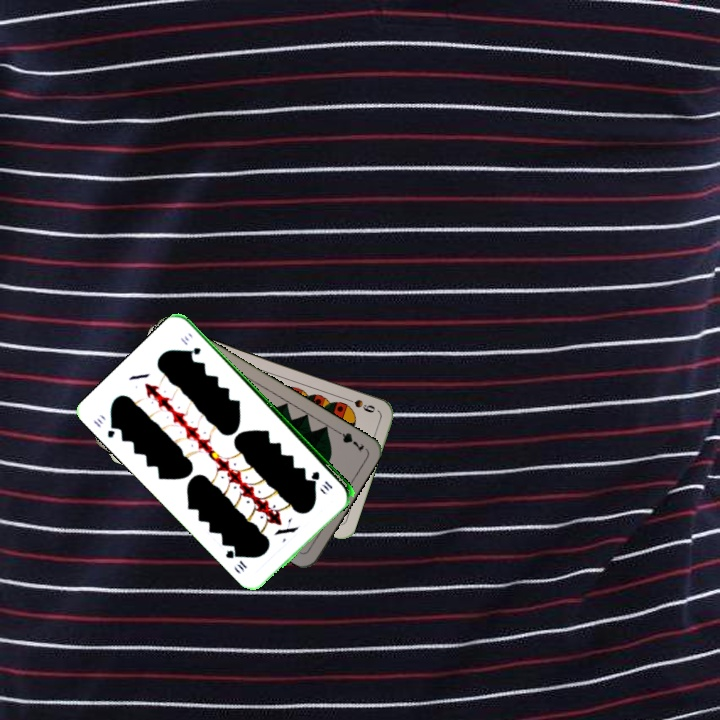G10: (89, 414, 121, 440), (308, 467, 335, 493)
G7: (330, 425, 367, 455)
S9: (340, 394, 378, 415)
